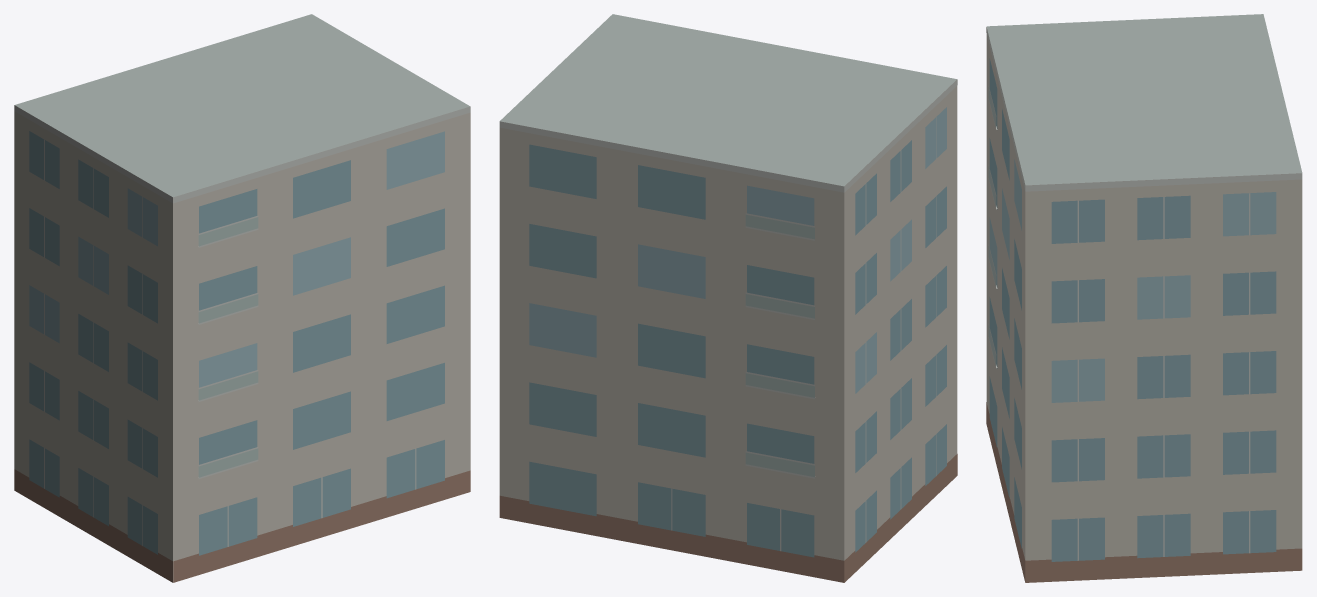
Rendered from survey-upis-32992837.glb.
3 views of the same model, side by side, from view 1: azimuth 30°, elevation 25°; view 2: azimuth 150°, elevation 25°; view 3: azimuth 270°, elevation 25° (orthographic). The views are drawn at different scales.
Visible parts, largest first — view 1: survey-upis-32992837.tmp; view 2: survey-upis-32992837.tmp; view 3: survey-upis-32992837.tmp.
Boxes of the visible parts, x1,y1,x2,y2 form: survey-upis-32992837.tmp: (14,14,470,582); survey-upis-32992837.tmp: (499,14,957,582); survey-upis-32992837.tmp: (986,14,1302,582).
Bounding box in the file's own units: 14.25 × 15.4 × 11.11.
